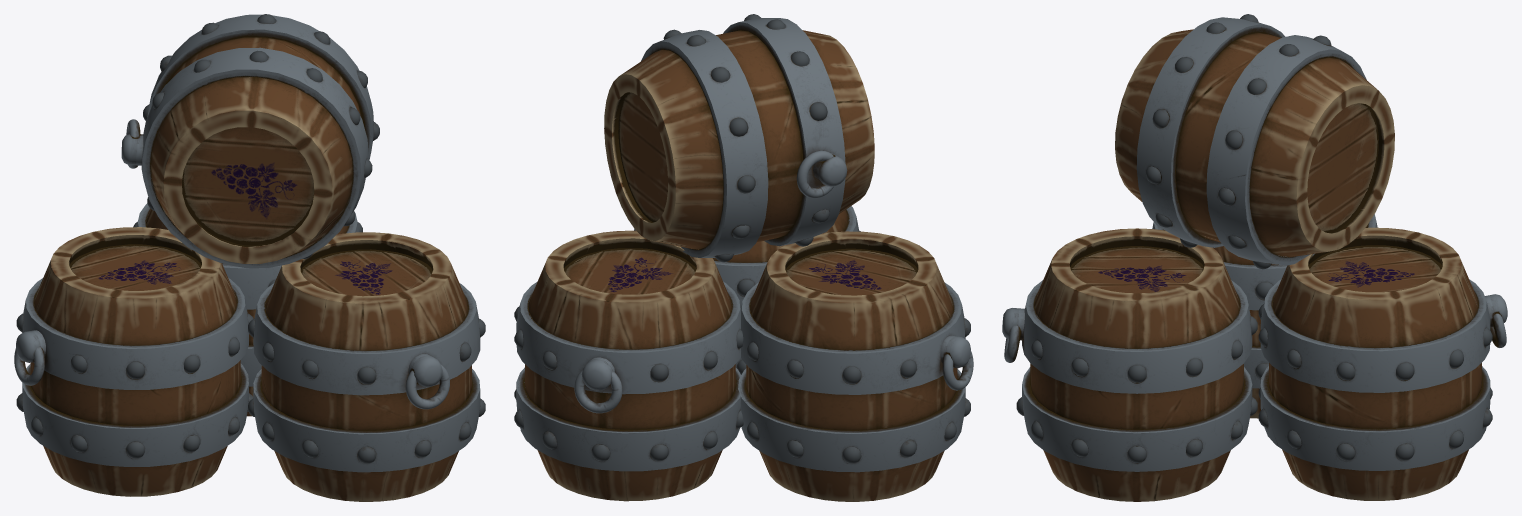
File: barrels.glb
3 renders of one model, left to right at view 1: azimuth 30°, elevation 25°; view 2: azimuth 150°, elevation 25°; view 3: azimuth 270°, elevation 25°, orthographic.
Parts seen in each view (by area): view 1: barrel_low.001, barrel_low.002, barrel_low.003, barrel_low; view 2: barrel_low.001, barrel_low.003, barrel_low, barrel_low.002; view 3: barrel_low.002, barrel_low.003, barrel_low, barrel_low.001.
Part boxes in pixels (<box>): barrel_low.001: <box>14,227,253,496</box>; barrel_low.002: <box>248,232,485,501</box>; barrel_low.003: <box>121,14,379,268</box>; barrel_low: <box>133,203,362,416</box>; barrel_low.001: <box>738,231,973,501</box>; barrel_low.003: <box>604,14,874,262</box>; barrel_low: <box>514,230,743,501</box>; barrel_low.002: <box>634,206,860,374</box>; barrel_low.002: <box>1002,228,1257,501</box>; barrel_low.003: <box>1115,14,1394,269</box>; barrel_low: <box>1258,227,1507,500</box>; barrel_low.001: <box>1152,214,1377,418</box>.
Bounding box in the file's own units: 5.78 × 5.76 × 6.46.
Materials: 1 (1 with a texture image).
